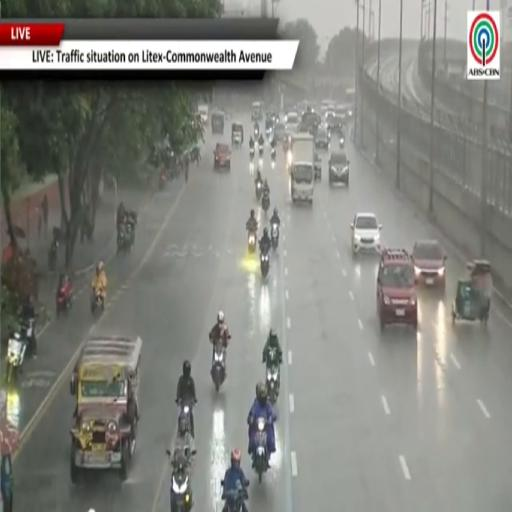car: (377, 249, 417, 329), (412, 240, 446, 289), (351, 213, 381, 255), (329, 152, 349, 186), (214, 143, 231, 169), (315, 127, 329, 150), (285, 111, 299, 133), (211, 111, 224, 134), (331, 115, 344, 133), (274, 123, 286, 141), (314, 153, 321, 181), (338, 129, 345, 149)
jeepney: (71, 336, 142, 483)
motorcycle: (6, 319, 34, 383), (252, 418, 267, 483), (171, 471, 193, 511), (0, 453, 13, 511), (224, 482, 249, 511), (266, 349, 279, 404), (211, 343, 225, 392), (56, 285, 72, 316), (180, 402, 194, 437), (48, 238, 58, 270), (91, 291, 103, 315), (117, 226, 126, 253), (260, 251, 269, 278), (126, 222, 134, 252), (271, 223, 279, 249), (248, 233, 256, 253), (262, 194, 270, 213), (255, 181, 262, 200), (159, 173, 166, 189), (266, 127, 274, 139), (339, 137, 345, 149), (254, 125, 259, 139), (271, 147, 276, 159), (259, 144, 264, 156), (250, 147, 254, 159)
tricycle: (452, 261, 492, 325), (232, 123, 243, 147)
truck: (288, 134, 314, 203)
